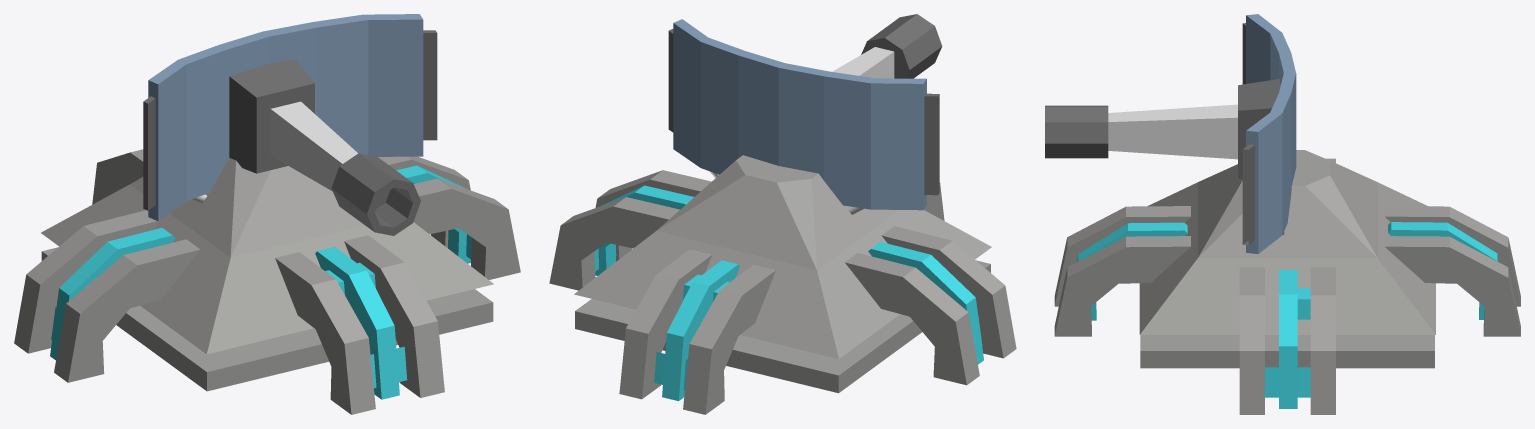
Rendered from TorreRadarAVC2.fbx.
The picture shows the model from 3 angles, left to right: view 1: azimuth 30°, elevation 25°; view 2: azimuth 150°, elevation 25°; view 3: azimuth 270°, elevation 25°; orthographic projection. The views are drawn at different scales.
Parts seen in each view (by area): view 1: Base, TTorre; view 2: Base, TTorre; view 3: Base, TTorre.
Part boxes in pixels (x1,y1,x2,y2): Base: (14,149,520,414); TTorre: (143,14,437,235); Base: (549,155,1016,414); TTorre: (668,14,942,214); Base: (1054,150,1520,414); TTorre: (1045,14,1296,253).
Bounding box in the file's own units: 559 × 322 × 571.
